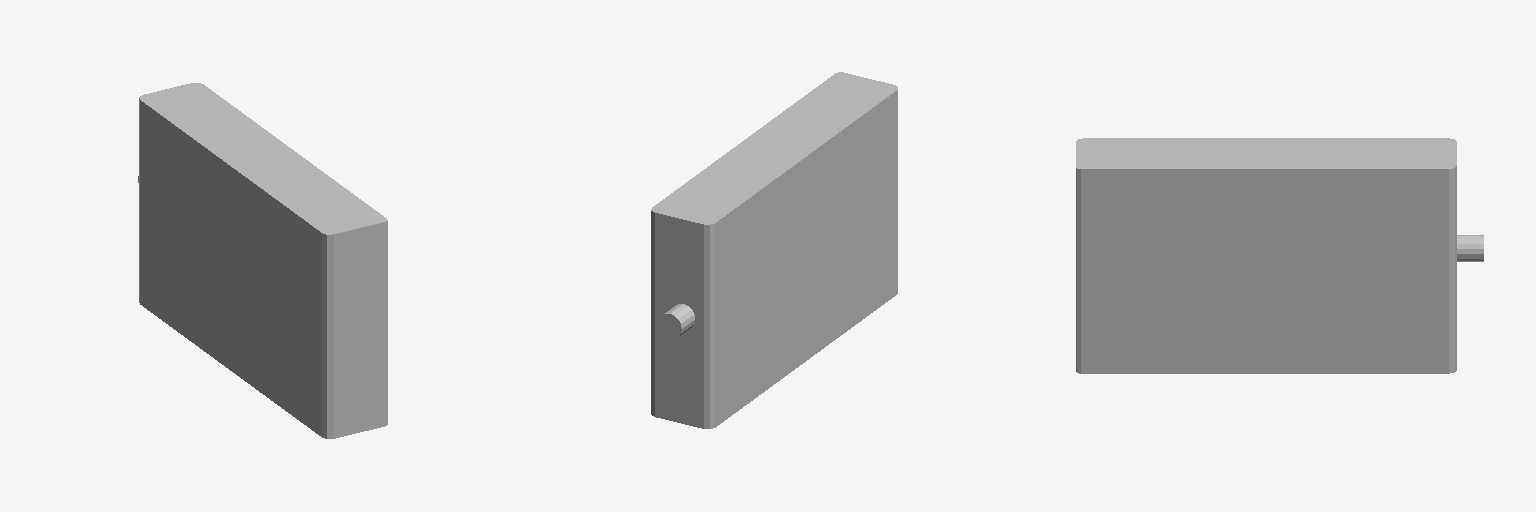
Rendered from camcorder_screen.obj.
3 renders of one model, left to right at view 1: azimuth 30°, elevation 25°; view 2: azimuth 150°, elevation 25°; view 3: azimuth 270°, elevation 25°, orthographic.
Parts seen in each view (by area): view 1: Cube.001; view 2: Cube.001; view 3: Cube.001.
Boxes of the visible parts, <box> form: Cube.001: <box>138,83,387,438</box>; Cube.001: <box>651,72,897,428</box>; Cube.001: <box>1076,138,1483,373</box>.
Size of the model in its own units: 0.4143 by 1.28 by 2.31.